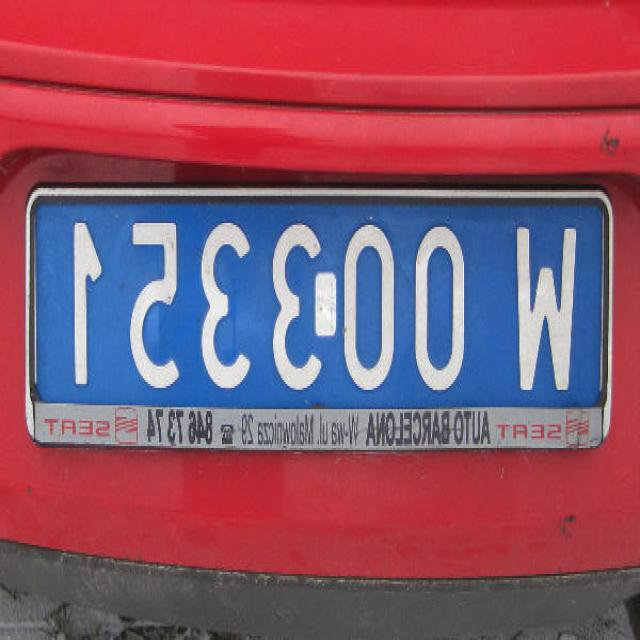pl_license_plate: (35, 202, 604, 400)
